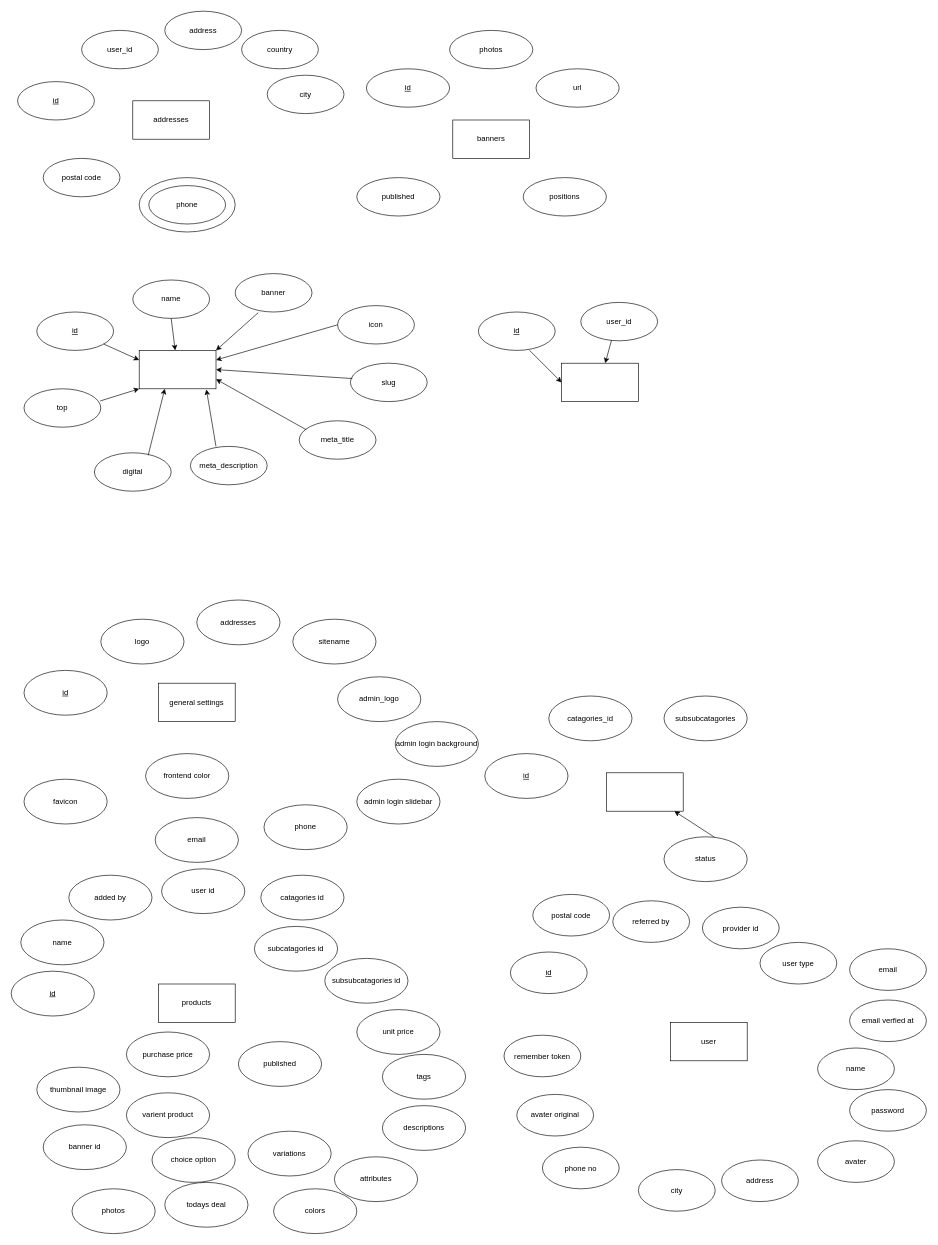
Some shapes in this 938 by 1245 pixel diagram are drawn without their labels. The box of each missing label's shape, as (x1, y1, x2, y2) in pixels:
catagories: (139, 350, 216, 389)
customers: (561, 363, 638, 402)
home catagories: (606, 772, 683, 811)
